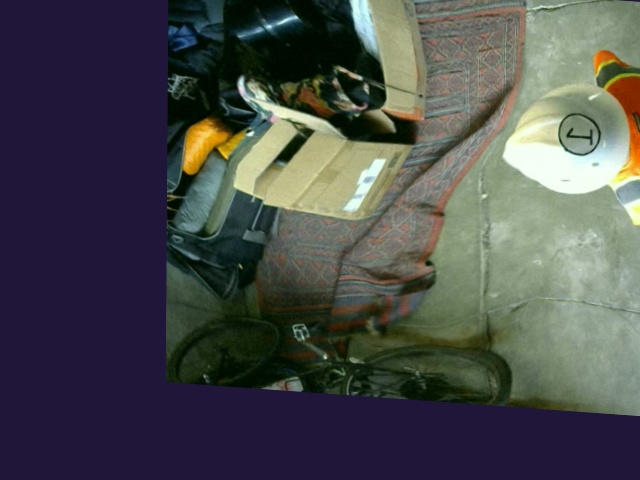one: (557, 111, 600, 155)
